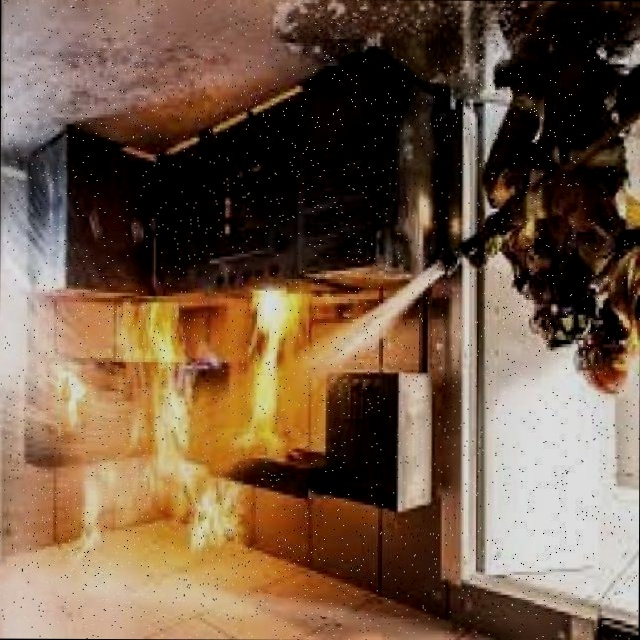fire: (117, 287, 297, 558)
